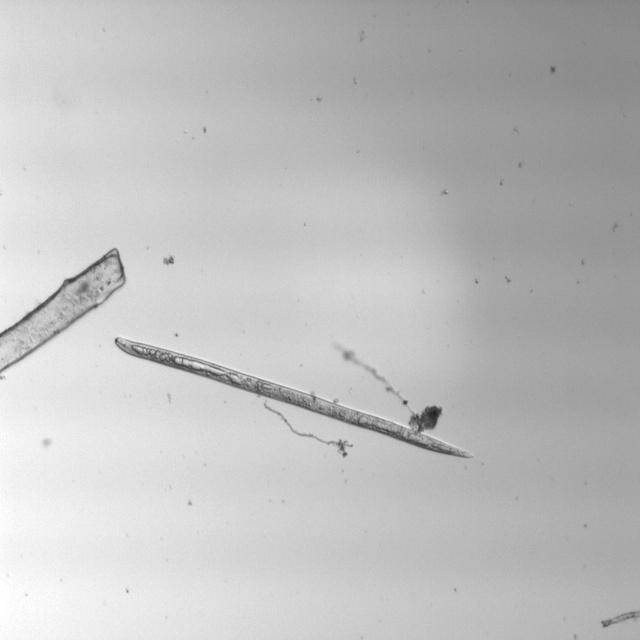Radopholus: (111, 335, 484, 468)
